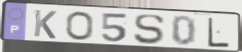0: (171, 15, 199, 48)
5: (100, 13, 129, 43)
K: (32, 8, 58, 40)
L: (207, 16, 231, 48)
O: (64, 11, 95, 42)
S: (133, 13, 166, 46)
